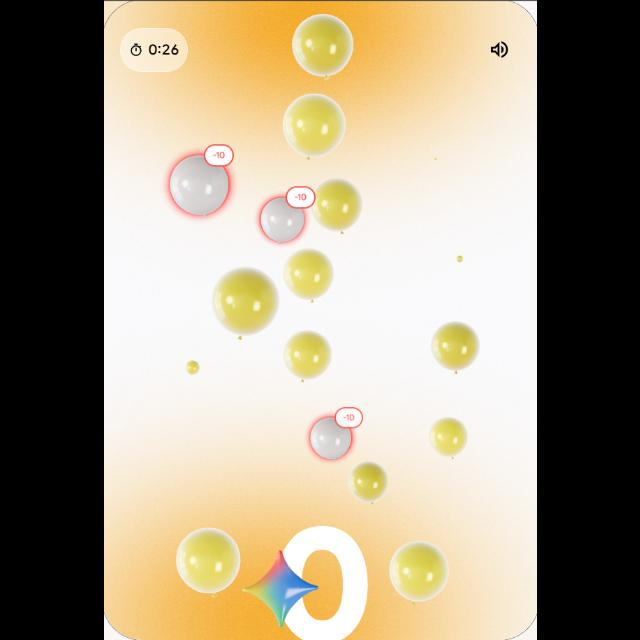gemini: (241, 550, 321, 628)
hazard: (168, 142, 236, 218), (258, 183, 318, 245), (306, 406, 362, 460)
safe: (210, 267, 278, 335), (174, 528, 238, 598), (290, 12, 354, 78), (387, 542, 449, 608), (282, 94, 344, 158), (306, 176, 368, 238), (282, 248, 334, 302), (429, 321, 479, 373), (281, 330, 331, 380), (346, 460, 388, 504), (427, 416, 468, 459), (184, 360, 198, 374), (454, 254, 464, 264)
